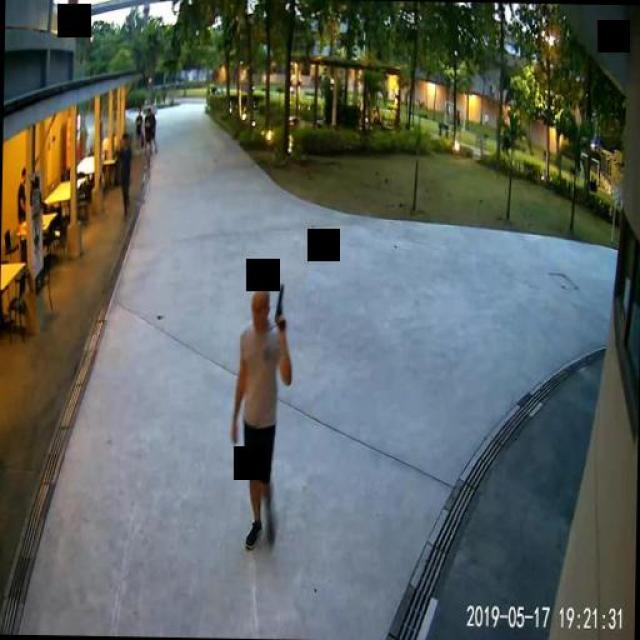gun: (273, 282, 285, 330)
